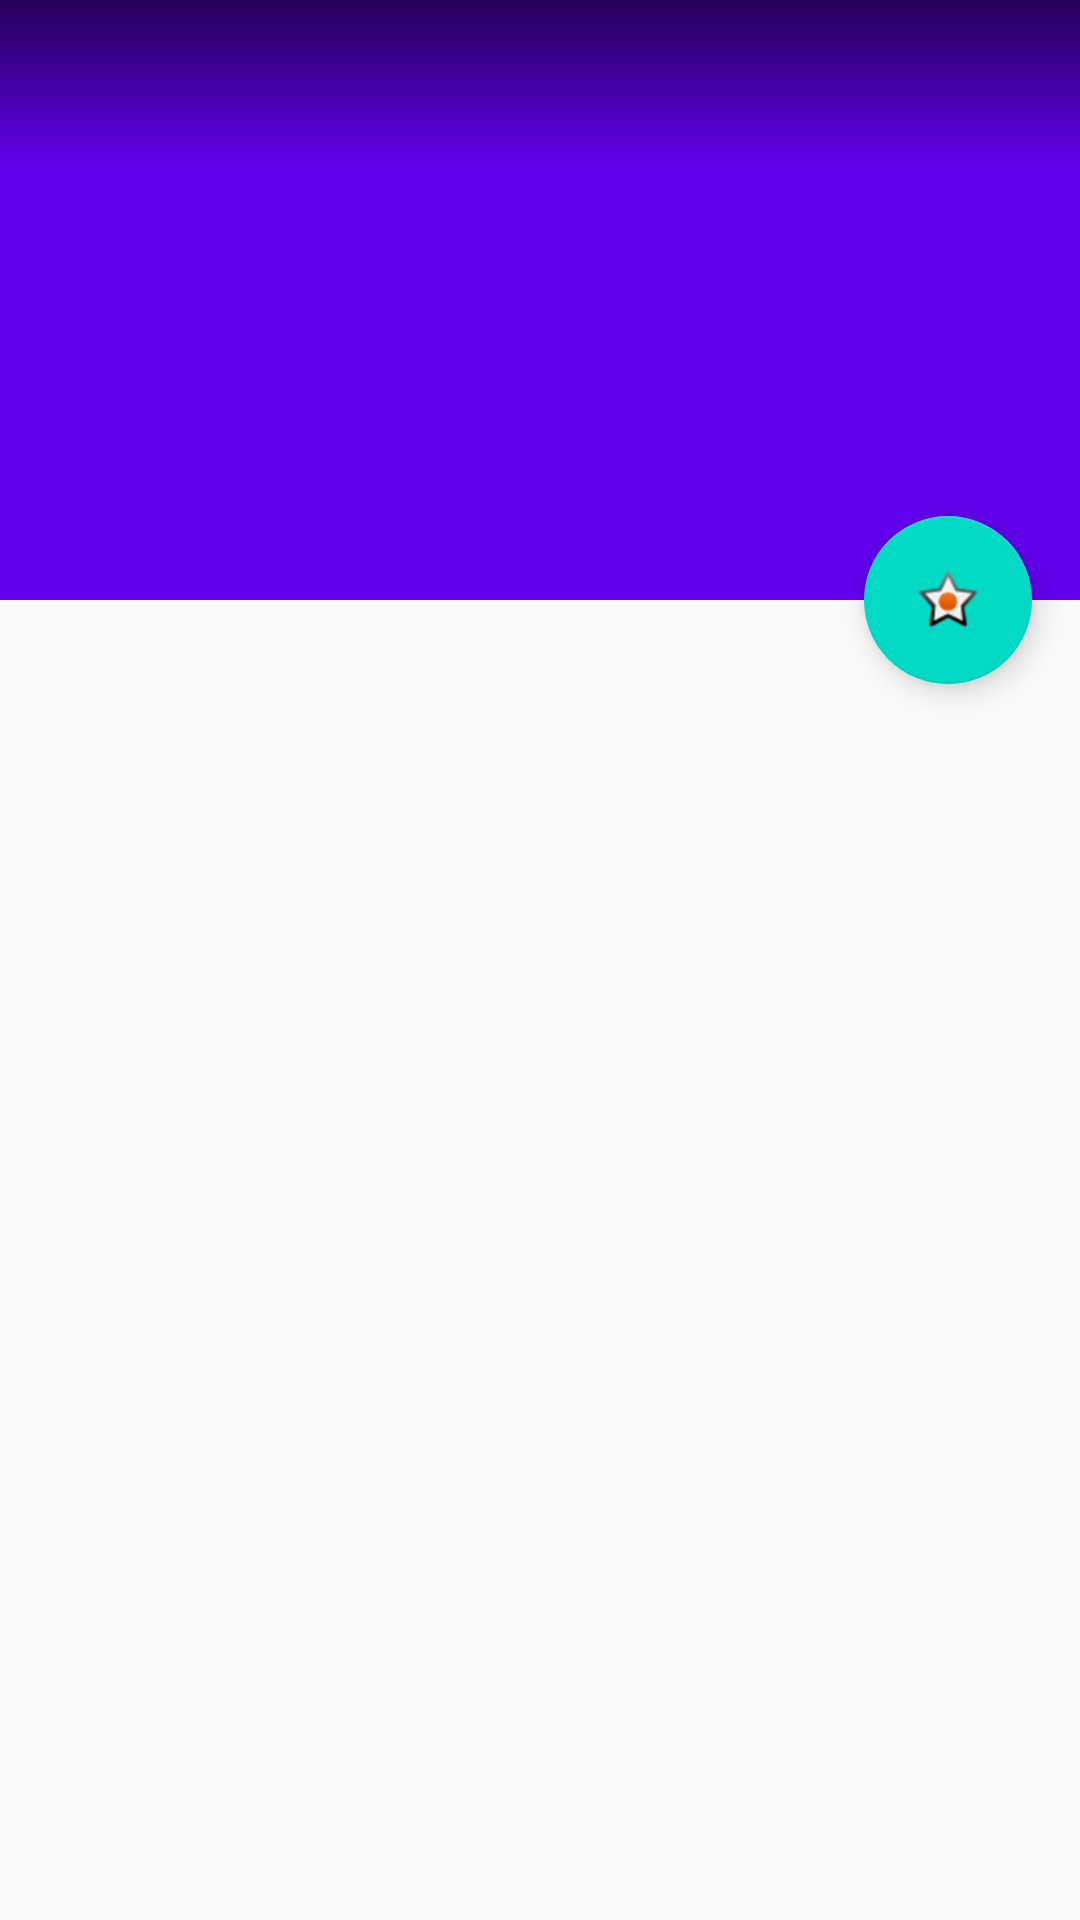

Point at icon controls on the screen. Image size 1080px x 1920px, points as (x,y).
star on: (948,600)
